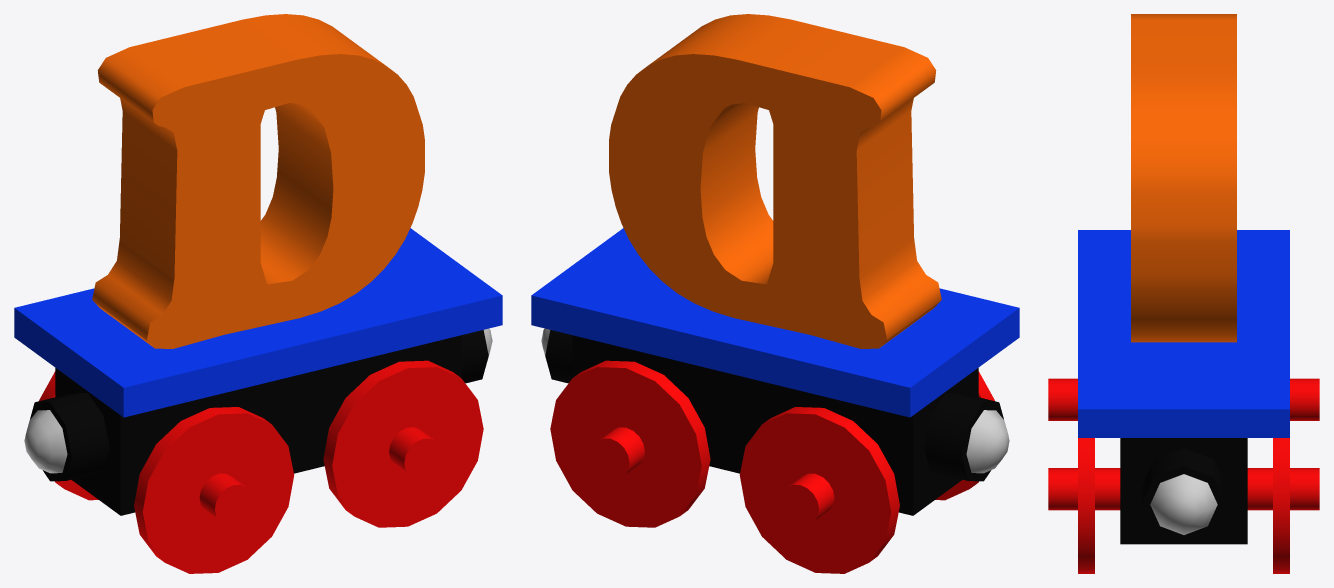
File: Dcar.glb
3 views of the same model, side by side, from view 1: azimuth 30°, elevation 25°; view 2: azimuth 150°, elevation 25°; view 3: azimuth 270°, elevation 25° (orthographic). The views are drawn at different scales.
Parts seen in each view (by area): view 1: WagonWithLetterDLowPoly; view 2: WagonWithLetterDLowPoly; view 3: WagonWithLetterDLowPoly.
Part boxes in pixels (<box>): WagonWithLetterDLowPoly: <box>14,14,502,573</box>; WagonWithLetterDLowPoly: <box>531,14,1019,573</box>; WagonWithLetterDLowPoly: <box>1048,14,1319,573</box>.
Size of the model in its own units: 6.06 by 5.89 by 3.2.
Materials: 1 (1 with a texture image).
